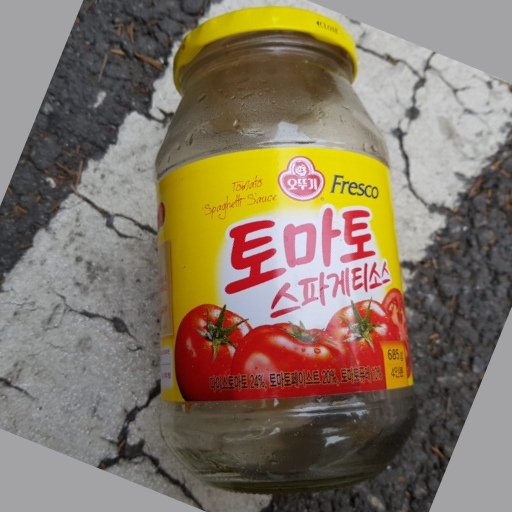Glass_5: (149, 6, 415, 486)
